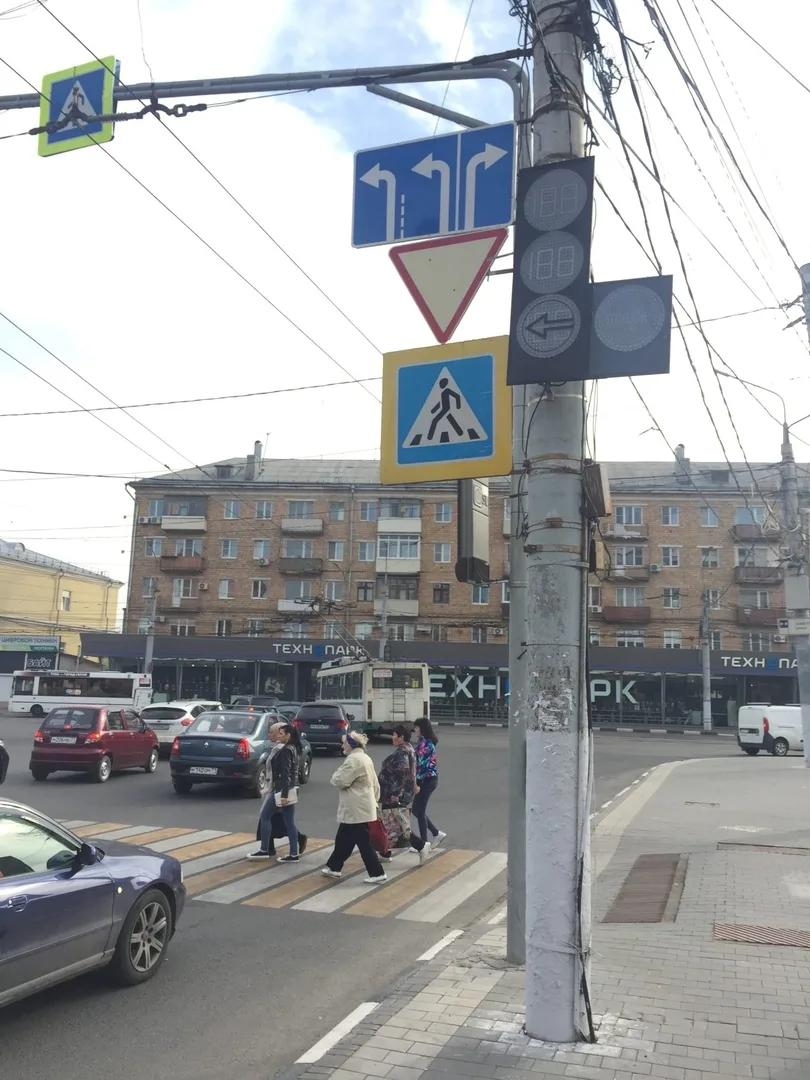obstructed_road_sign: (39, 57, 115, 156)
off traffic light: (507, 157, 671, 386)
road_sign: (352, 121, 516, 247), (380, 335, 513, 484), (389, 227, 508, 343)
